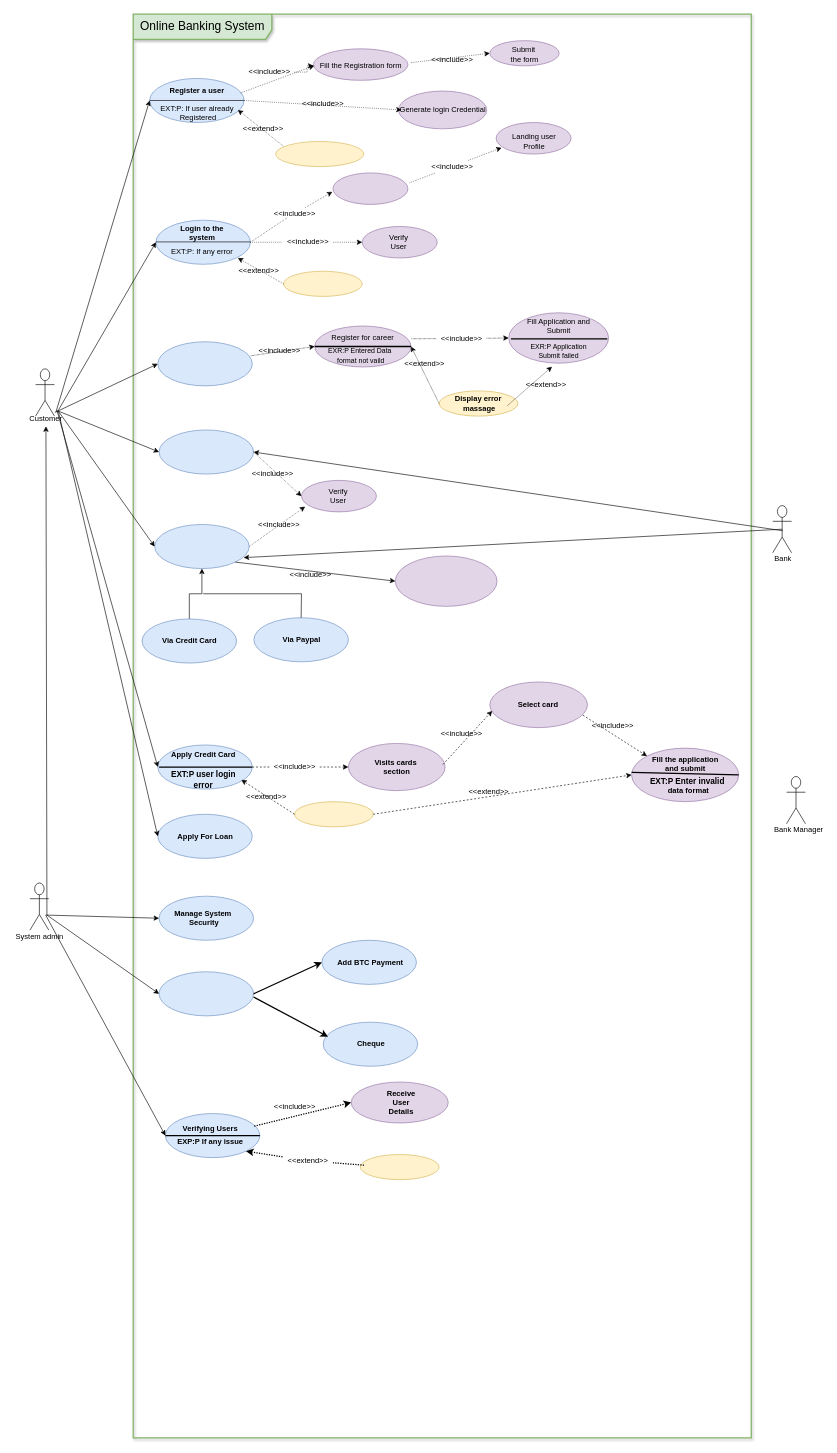
The diagram is 837 pixels wide and 1453 high, and some of its shapes have lost their labels. Here are the shapes that lost their labels. From the top down, the centre of each, then its label:
point (319, 154): Popup Login form
point (370, 188): Fill login form
point (322, 283): Indicate error
point (204, 363): Find the career
point (206, 451): Money Transaction
point (201, 546): Bill Payment
point (333, 814): Display error
point (206, 993): Make Payment Methods
point (399, 1167): Send a massage
